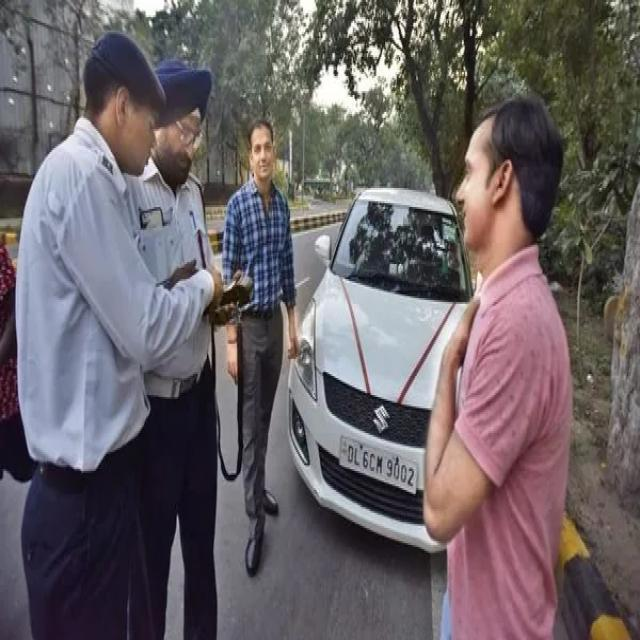plate: (336, 429, 420, 498)
